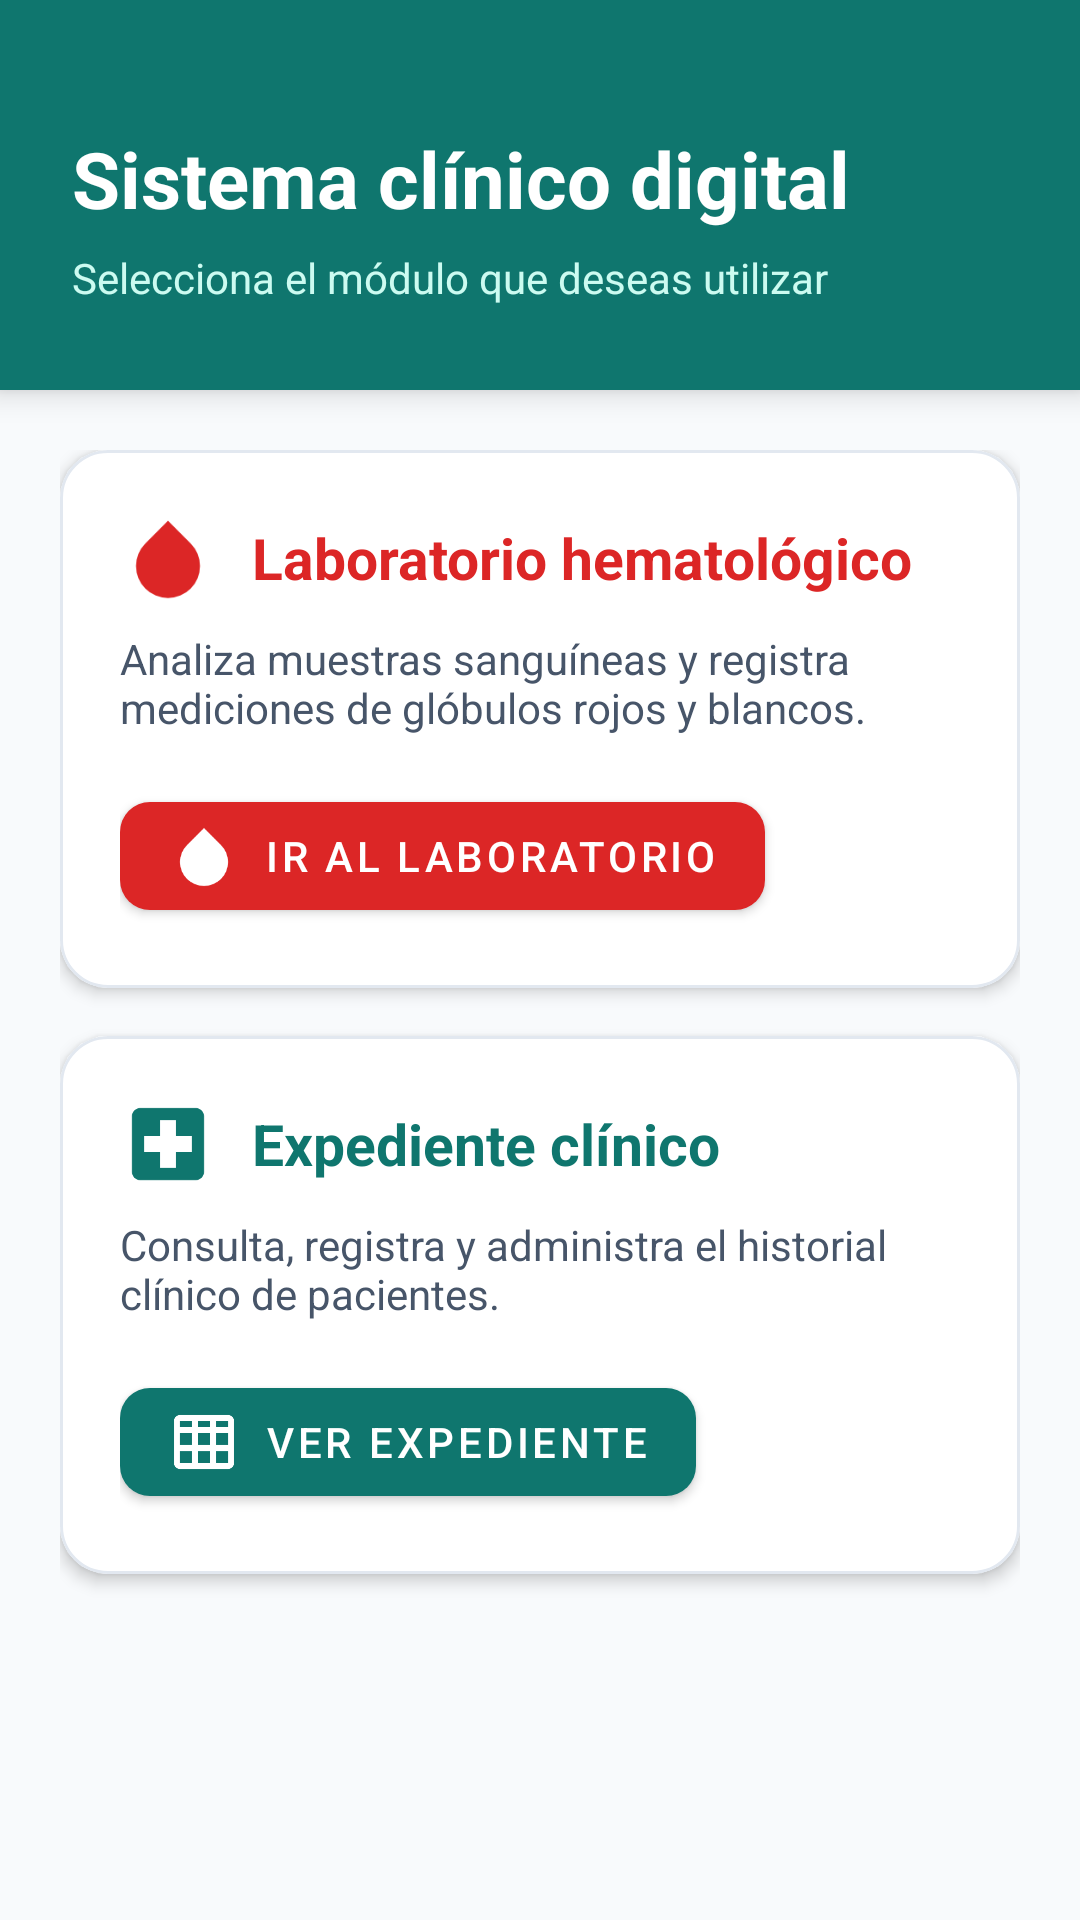

Where to tap for icons on this 1080 × 1920 app screen, as point (x, y):
blood drop: point (168, 560)
hospital: point (168, 1144)
